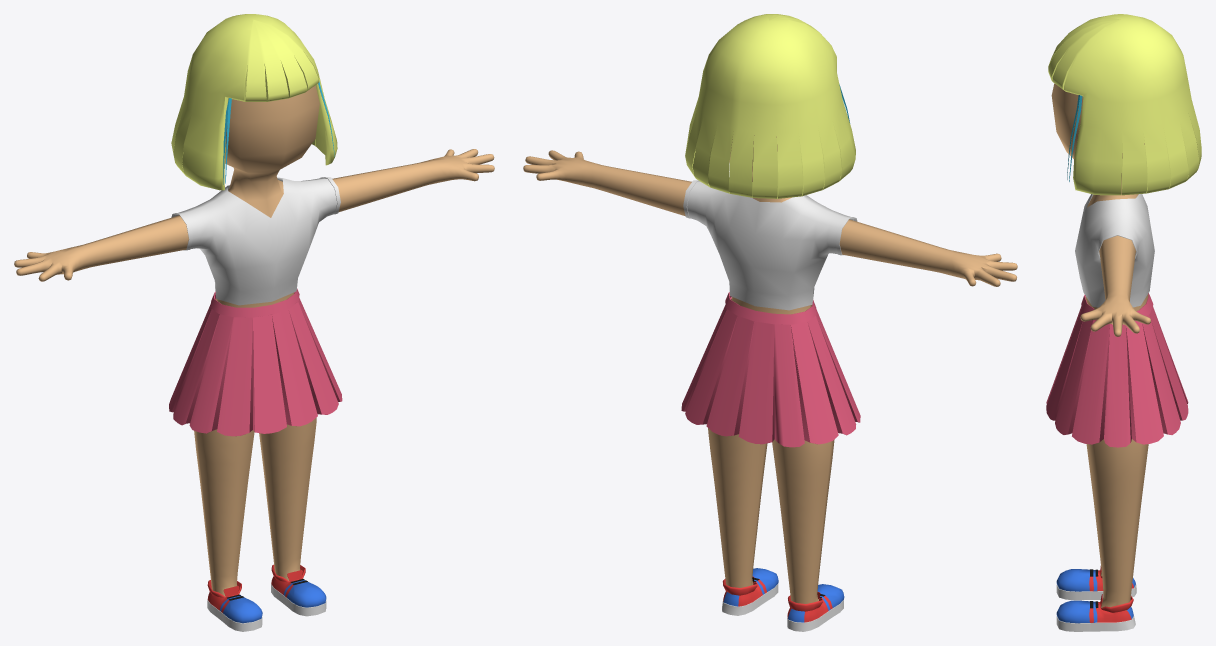
The model's file is Girl-student1.fbx.
3 renders of one model, left to right at view 1: azimuth 30°, elevation 25°; view 2: azimuth 150°, elevation 25°; view 3: azimuth 270°, elevation 25°, orthographic. The views are drawn at different scales.
Visible parts, largest first — view 1: Girl-student; view 2: Girl-student; view 3: Girl-student.
Part boxes in pixels (left/top/right/bottom): Girl-student: left=14, top=14, right=494, bottom=631; Girl-student: left=523, top=14, right=1017, bottom=631; Girl-student: left=1046, top=14, right=1201, bottom=631.
Bounding box in the file's own units: 0.8262 × 0.9595 × 0.2295.
